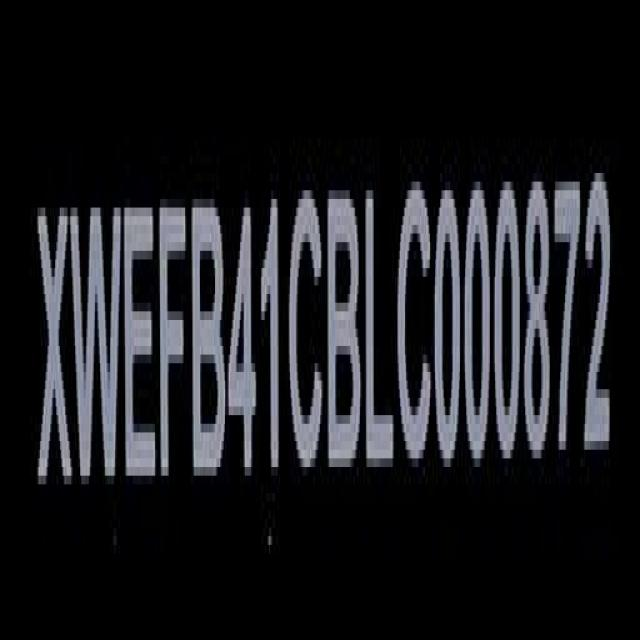0: (493, 168, 522, 490), (434, 164, 464, 463), (462, 164, 492, 463)
1: (258, 203, 281, 485)
2: (582, 158, 614, 472)
4: (226, 193, 259, 477)
7: (552, 168, 580, 466)
8: (522, 175, 551, 476)
B: (192, 186, 228, 490), (328, 172, 362, 476)
C: (397, 155, 436, 490), (286, 189, 324, 485)
E: (122, 175, 158, 494)
F: (157, 186, 184, 490)
L: (358, 178, 394, 481)
W: (71, 189, 121, 515)
X: (36, 199, 72, 494)
